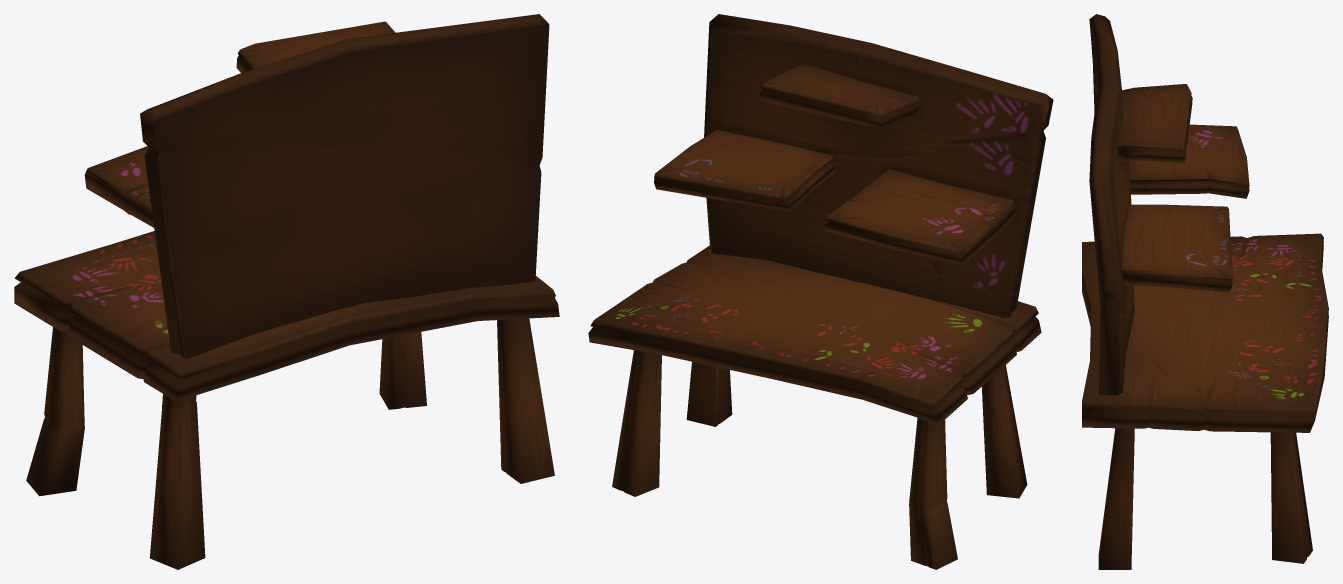
The picture shows the model from 3 angles, left to right: view 1: azimuth 30°, elevation 25°; view 2: azimuth 150°, elevation 25°; view 3: azimuth 270°, elevation 25°; orthographic projection. The views are drawn at different scales.
Parts seen in each view (by area): view 1: table; view 2: table; view 3: table.
Boxes of the visible parts, x1,y1,x2,y2 form: table: (14,14,559,569); table: (588,14,1053,569); table: (1082,14,1328,569).
Bounding box in the file's own units: 21.02 × 23.14 × 12.79.
